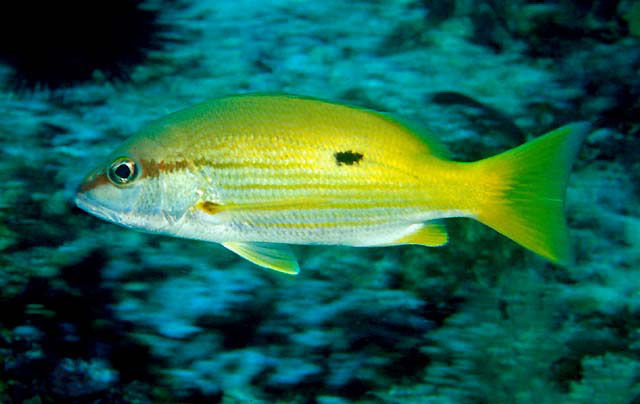fish: (73, 92, 591, 277)
